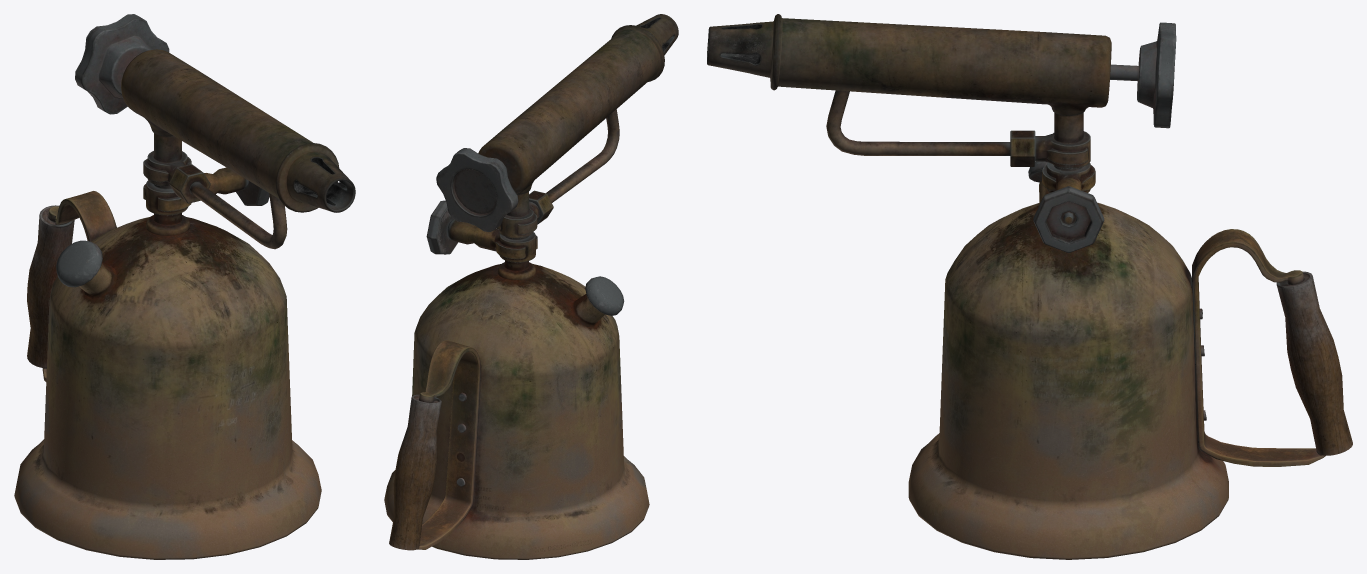
3 renders of one model, left to right at view 1: azimuth 30°, elevation 25°; view 2: azimuth 150°, elevation 25°; view 3: azimuth 270°, elevation 25°, orthographic. The views are drawn at different scales.
Visible parts, largest first — view 1: brass_blowtorch; view 2: brass_blowtorch; view 3: brass_blowtorch.
Boxes of the visible parts, <box> form: brass_blowtorch: <box>14,14,355,559</box>; brass_blowtorch: <box>384,14,678,559</box>; brass_blowtorch: <box>707,14,1352,559</box>.
Size of the model in its own units: 0.1294 by 0.2106 by 0.2593.
Materials: 1 (1 with a texture image).
